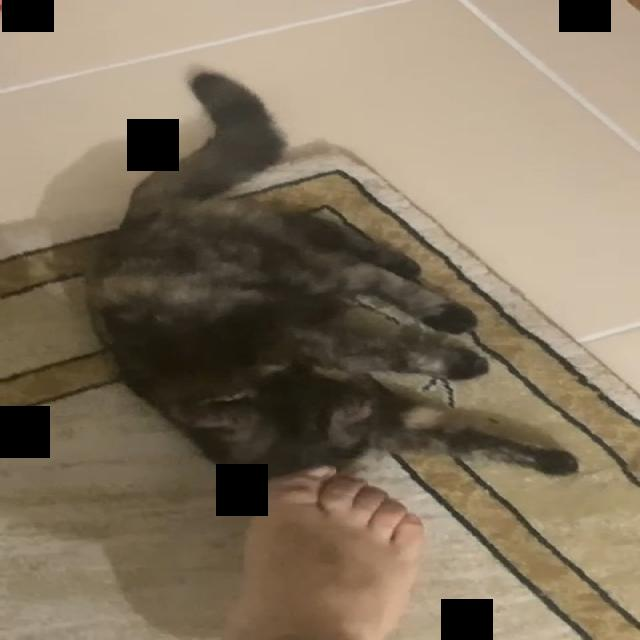authorized: (81, 66, 580, 482)
